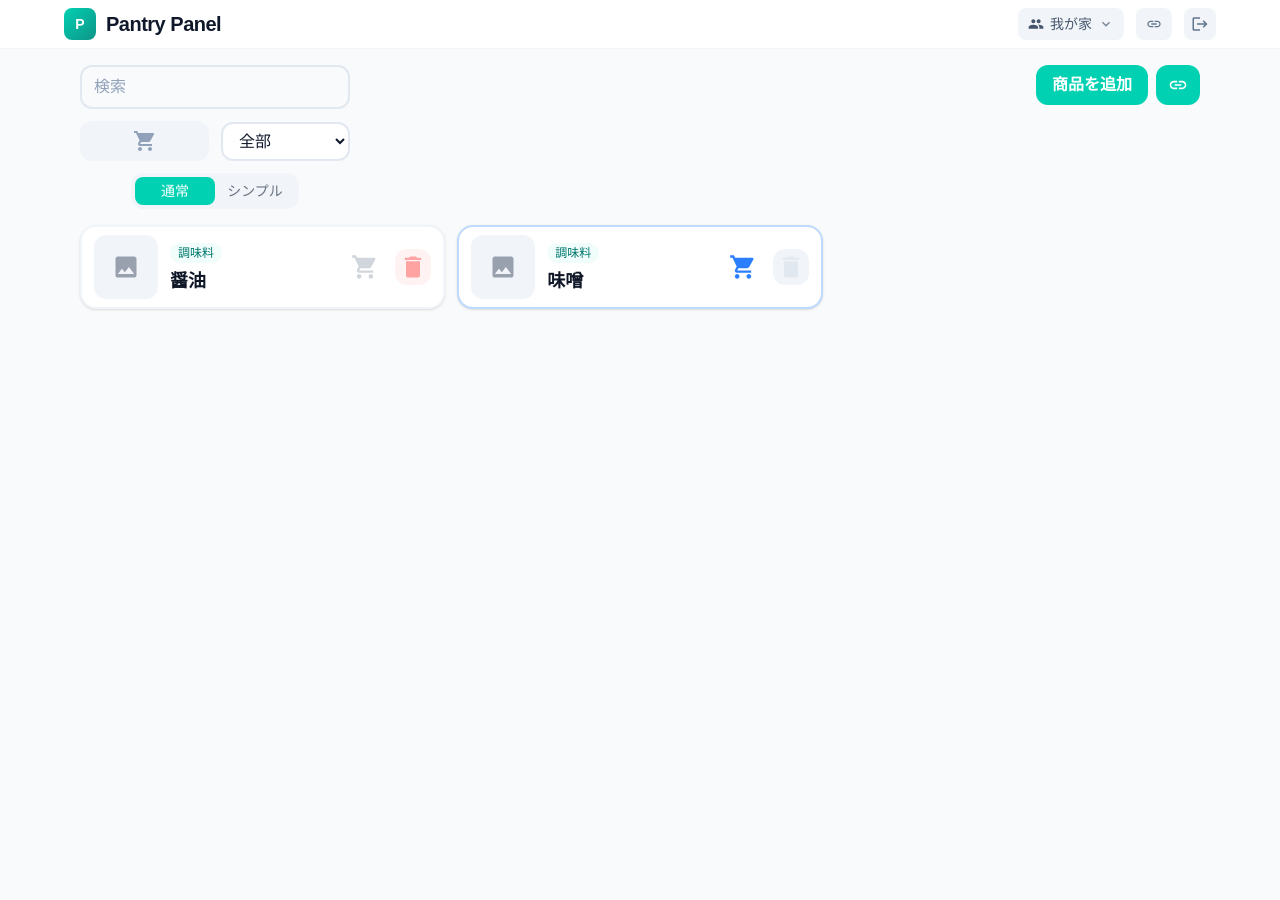
Test: StockItemsClient › シンプルモードでカードをクリックすると編集モーダルが開く
Check: the heading "醤油" is shown, box [170,270,206,290]
Click the switch named "表示モード" at (215, 191), box [131,173,299,209]
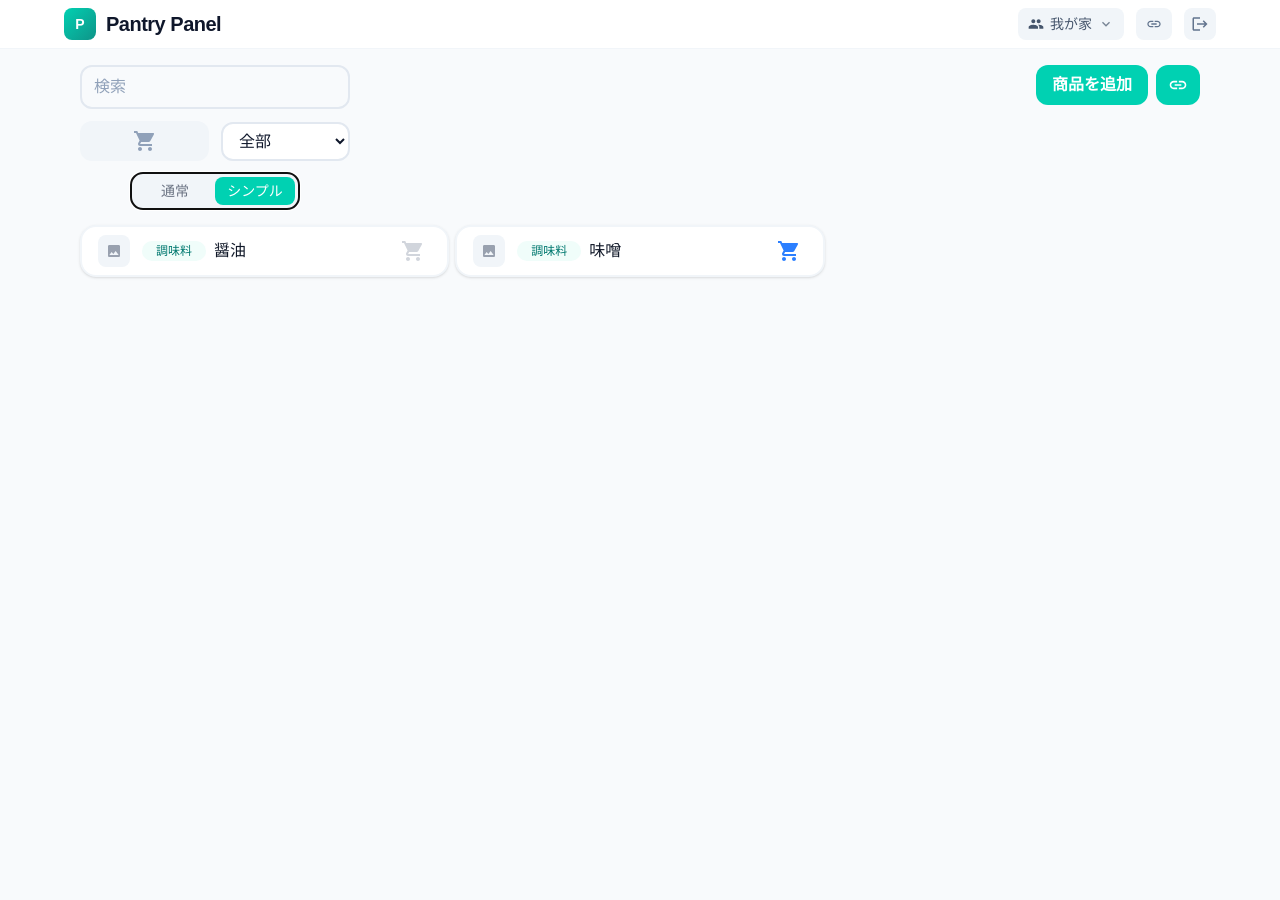
Click the button "調味料 醤油" at (263, 251), box [142,239,383,263]
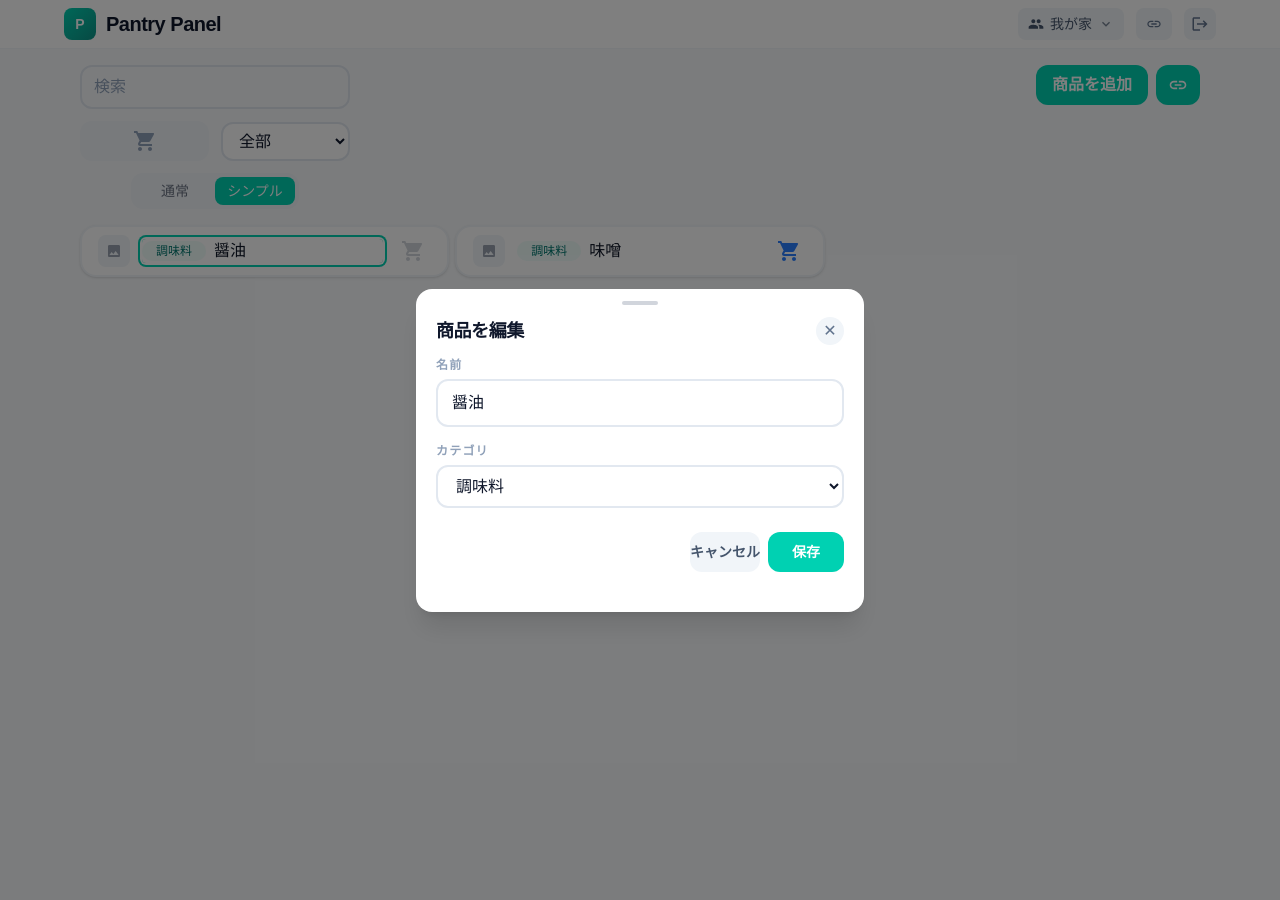
Check: the field labelled "名前" is shown, box [436,378,844,426]
